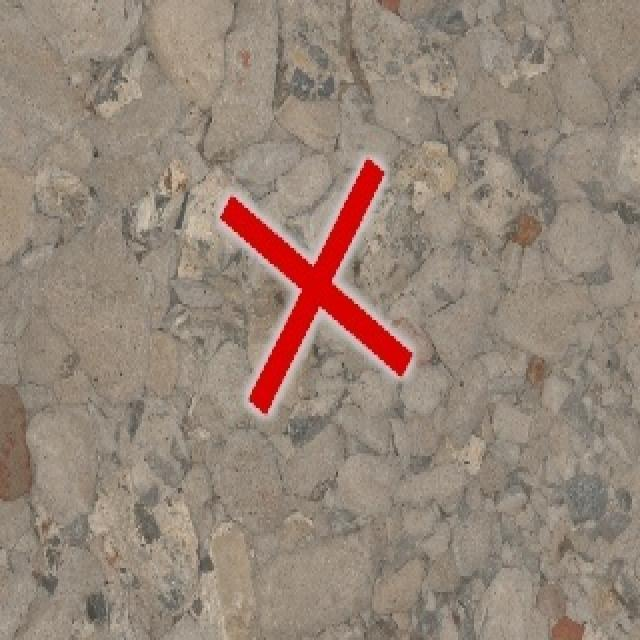x_marker: (219, 159, 411, 412)
